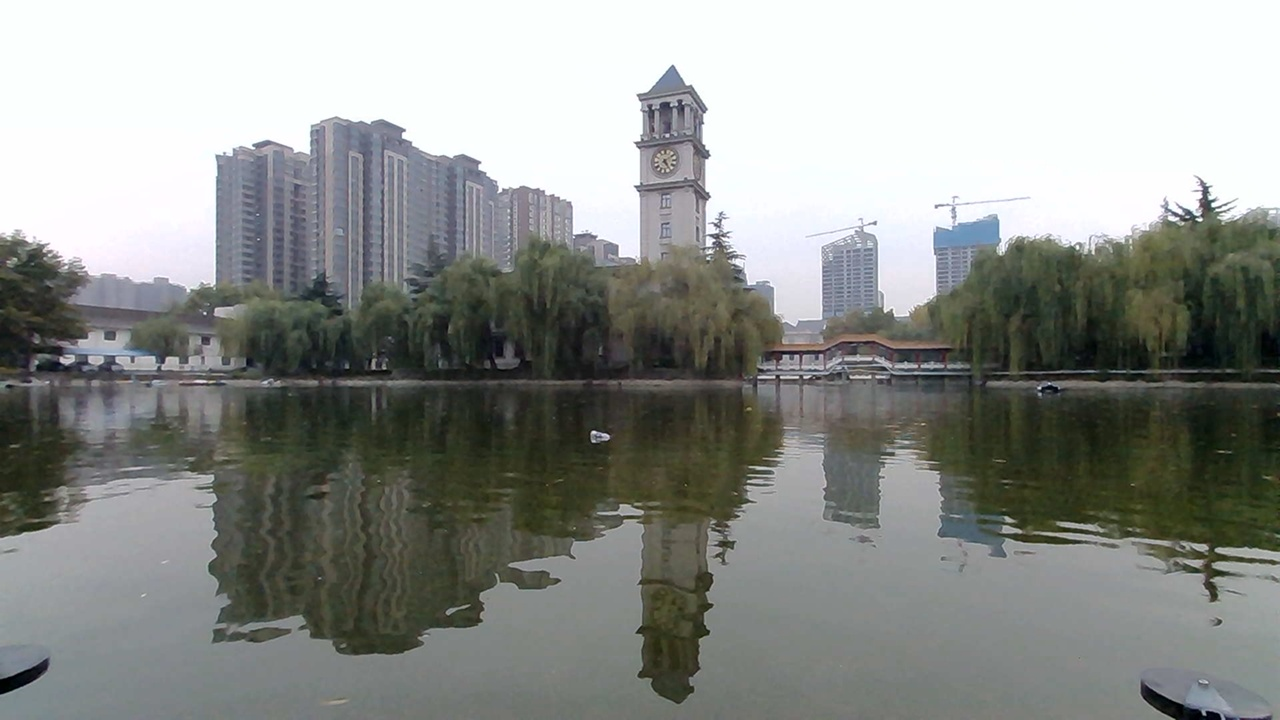bottle: (571, 417, 623, 455)
